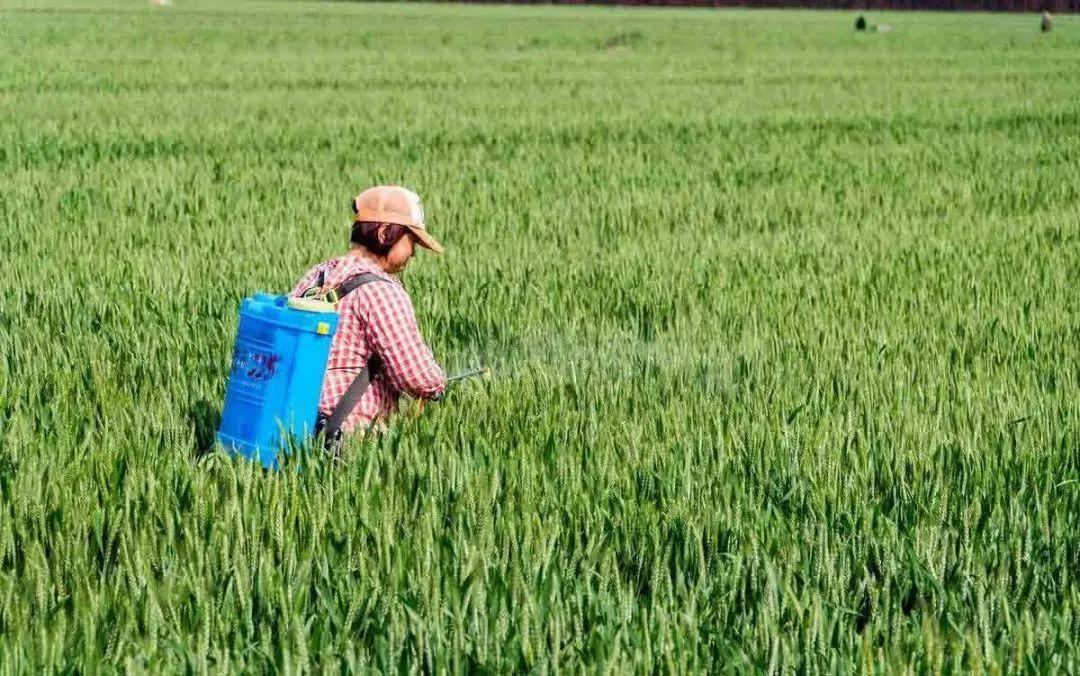berrl: (216, 287, 336, 468)
